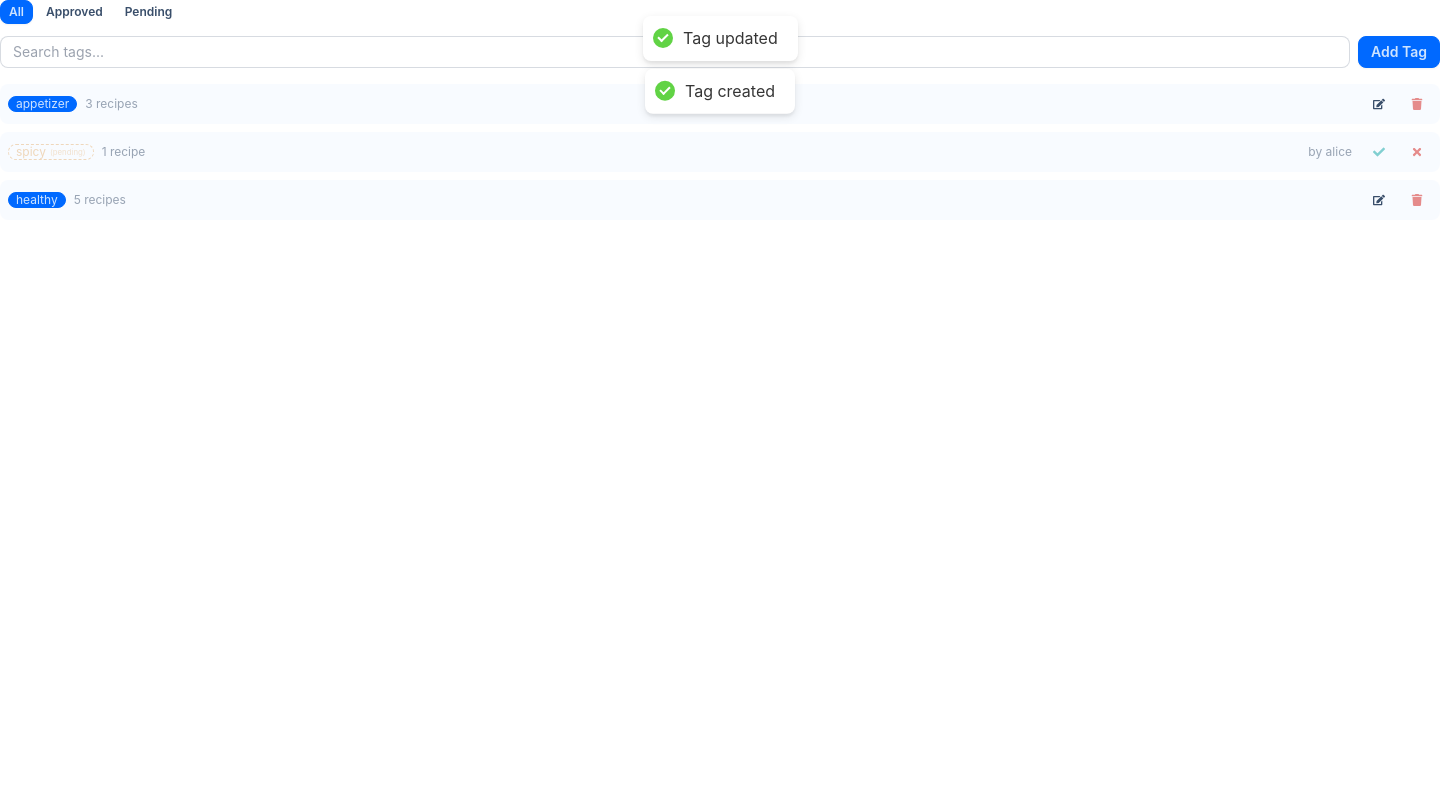
Test: CommunityTagsList › should delete a tag after confirmation
Expected: the text "appetizer" is shown, [8,96,77,112]
Click the button titled "Delete" in the row of "appetizer" at {"x": 1417, "y": 104}, box [1402,92,1432,116]
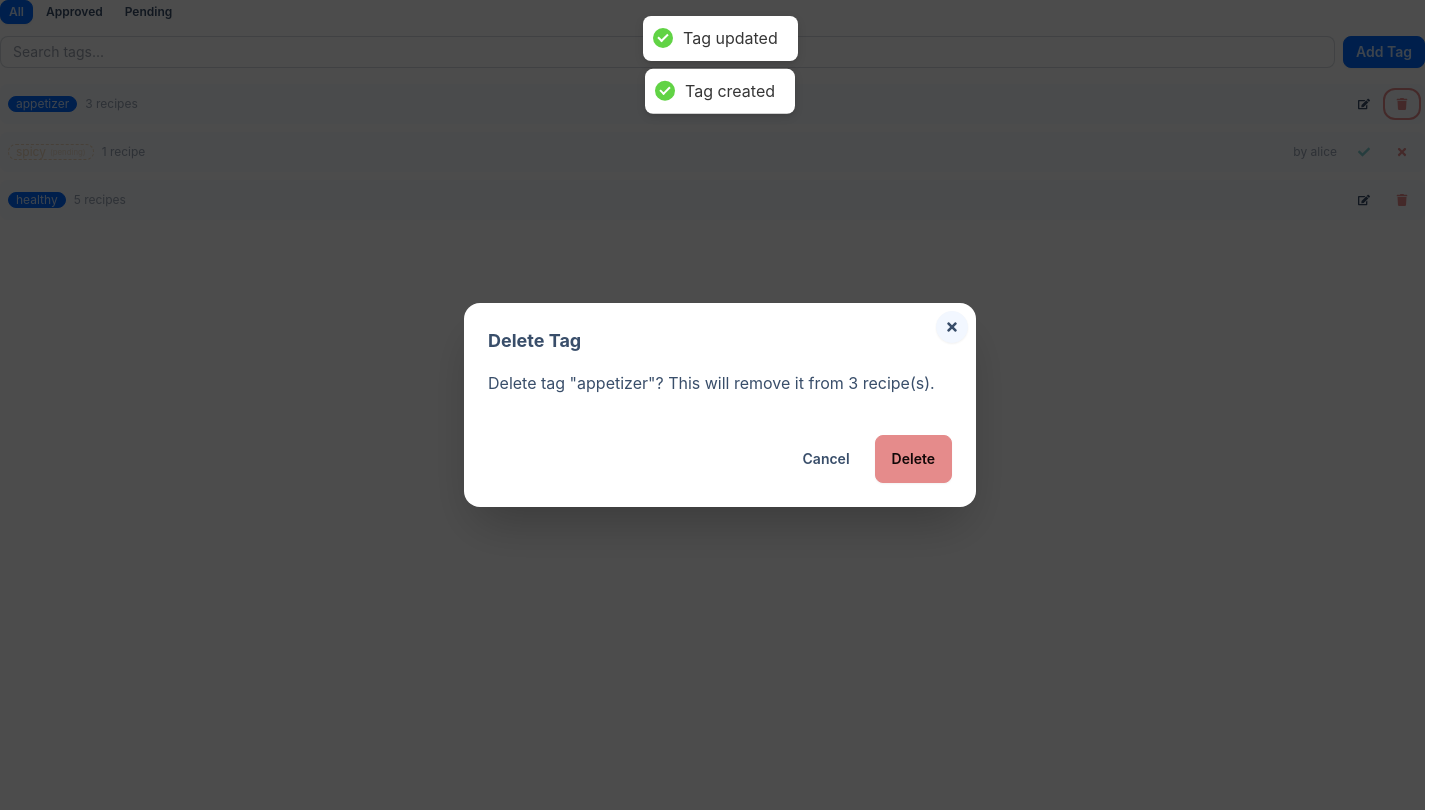
Result: the text "Delete tag" is shown at [488,373,935,393]
# Click confirm Delete button in dialog
Click the button "Delete" at {"x": 913, "y": 459}, box [875,435,952,483]
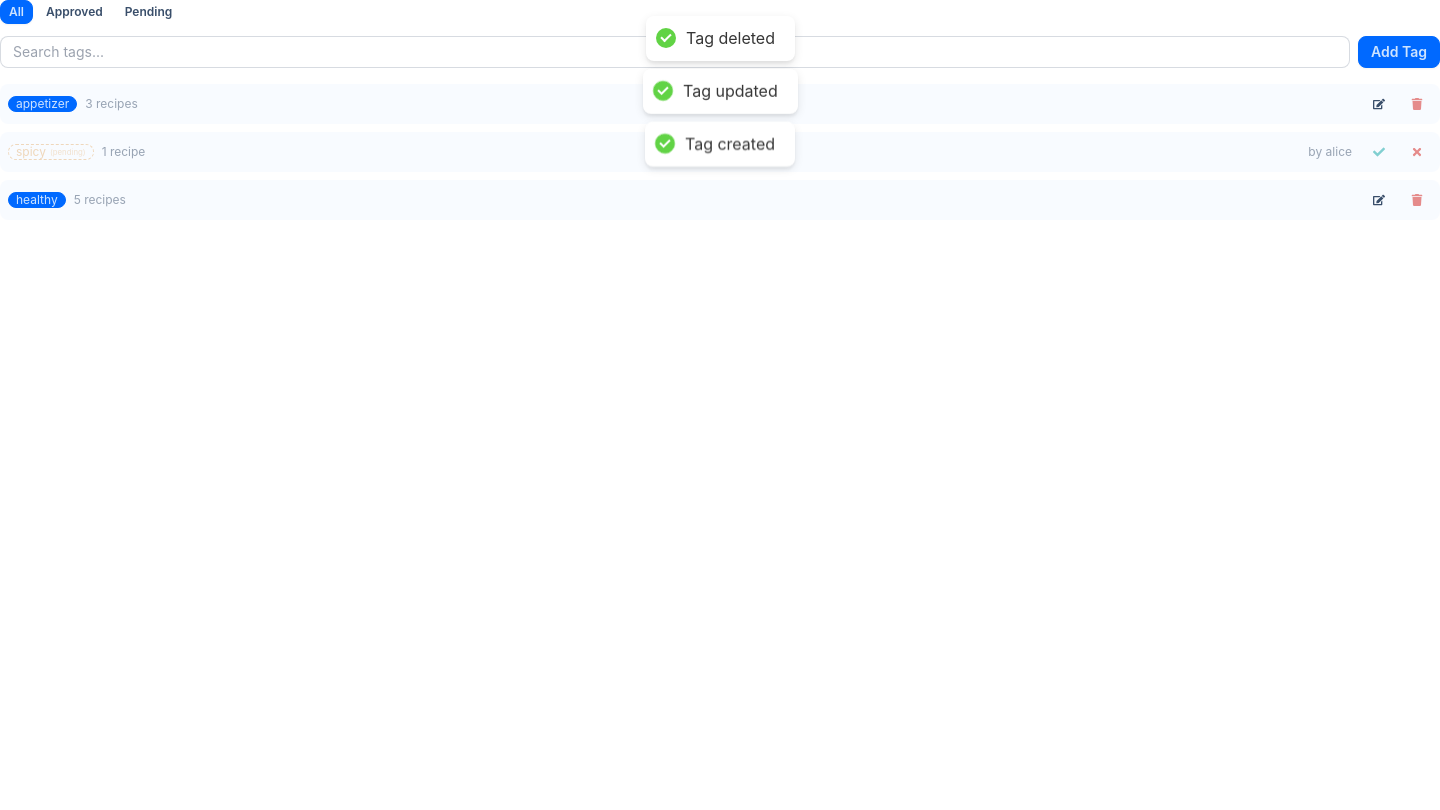
Result: the text "Tag deleted" is shown at [686,28,774,49]
